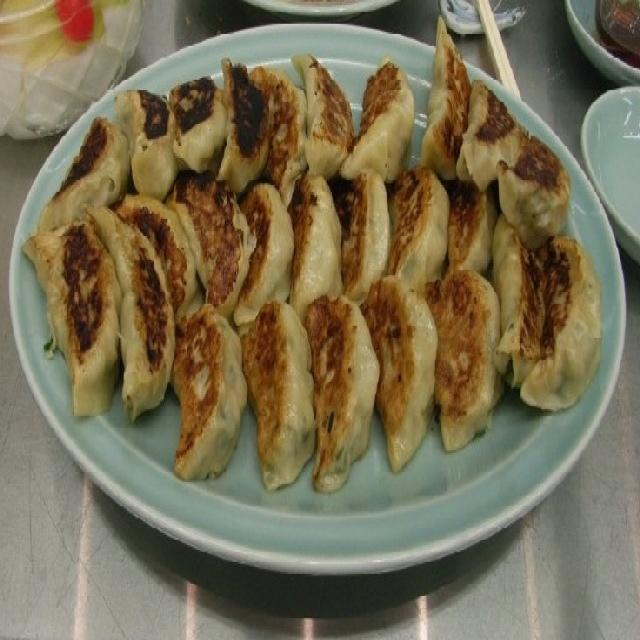带馅早点: (9, 25, 629, 574)
